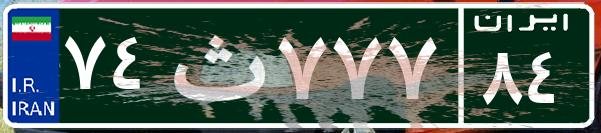4: (110, 28, 158, 105), (525, 38, 570, 115)
7: (385, 28, 445, 110), (273, 28, 330, 110), (330, 28, 385, 110), (57, 26, 110, 107)
8: (475, 38, 525, 113)
ث: (158, 15, 273, 115)
